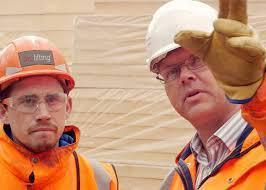helmet: (147, 1, 219, 71), (0, 35, 75, 92)
